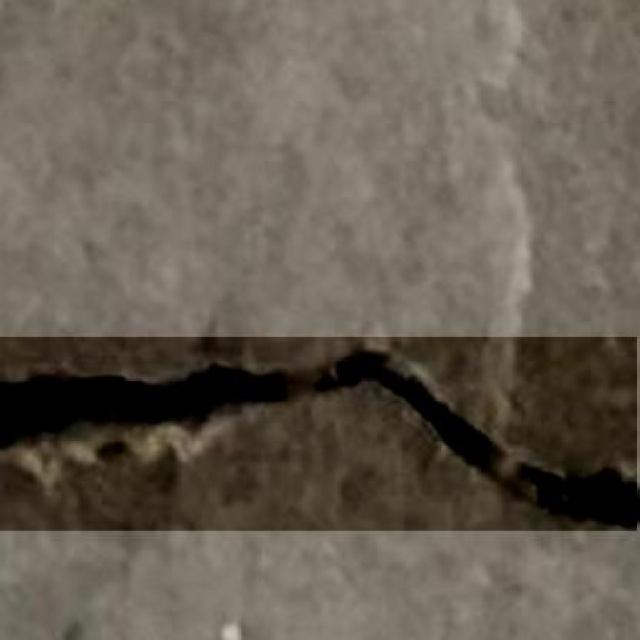Crack: (0, 341, 640, 530)
